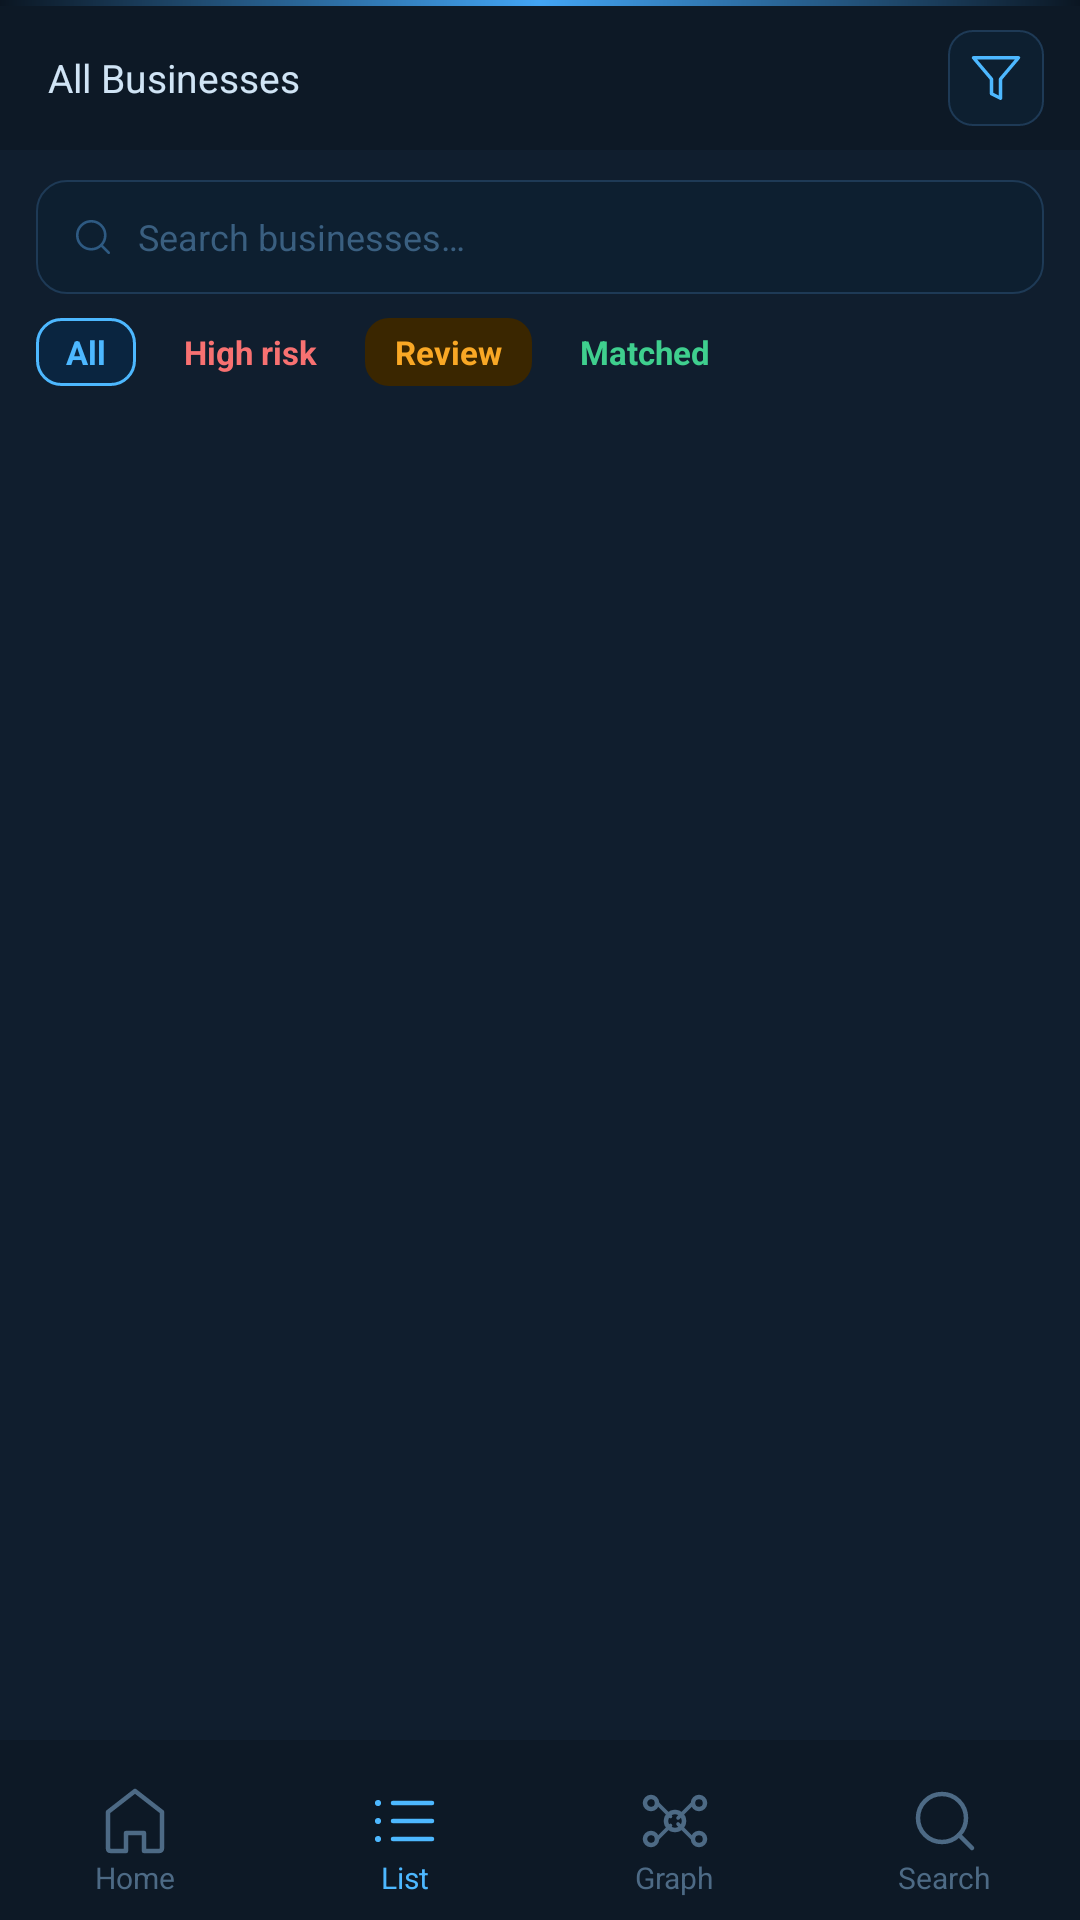

Icons on this 1080w x 1920h Android screen, each with its box as (x1, y1, x2, y2):
Filter: (948, 30, 1044, 126)
